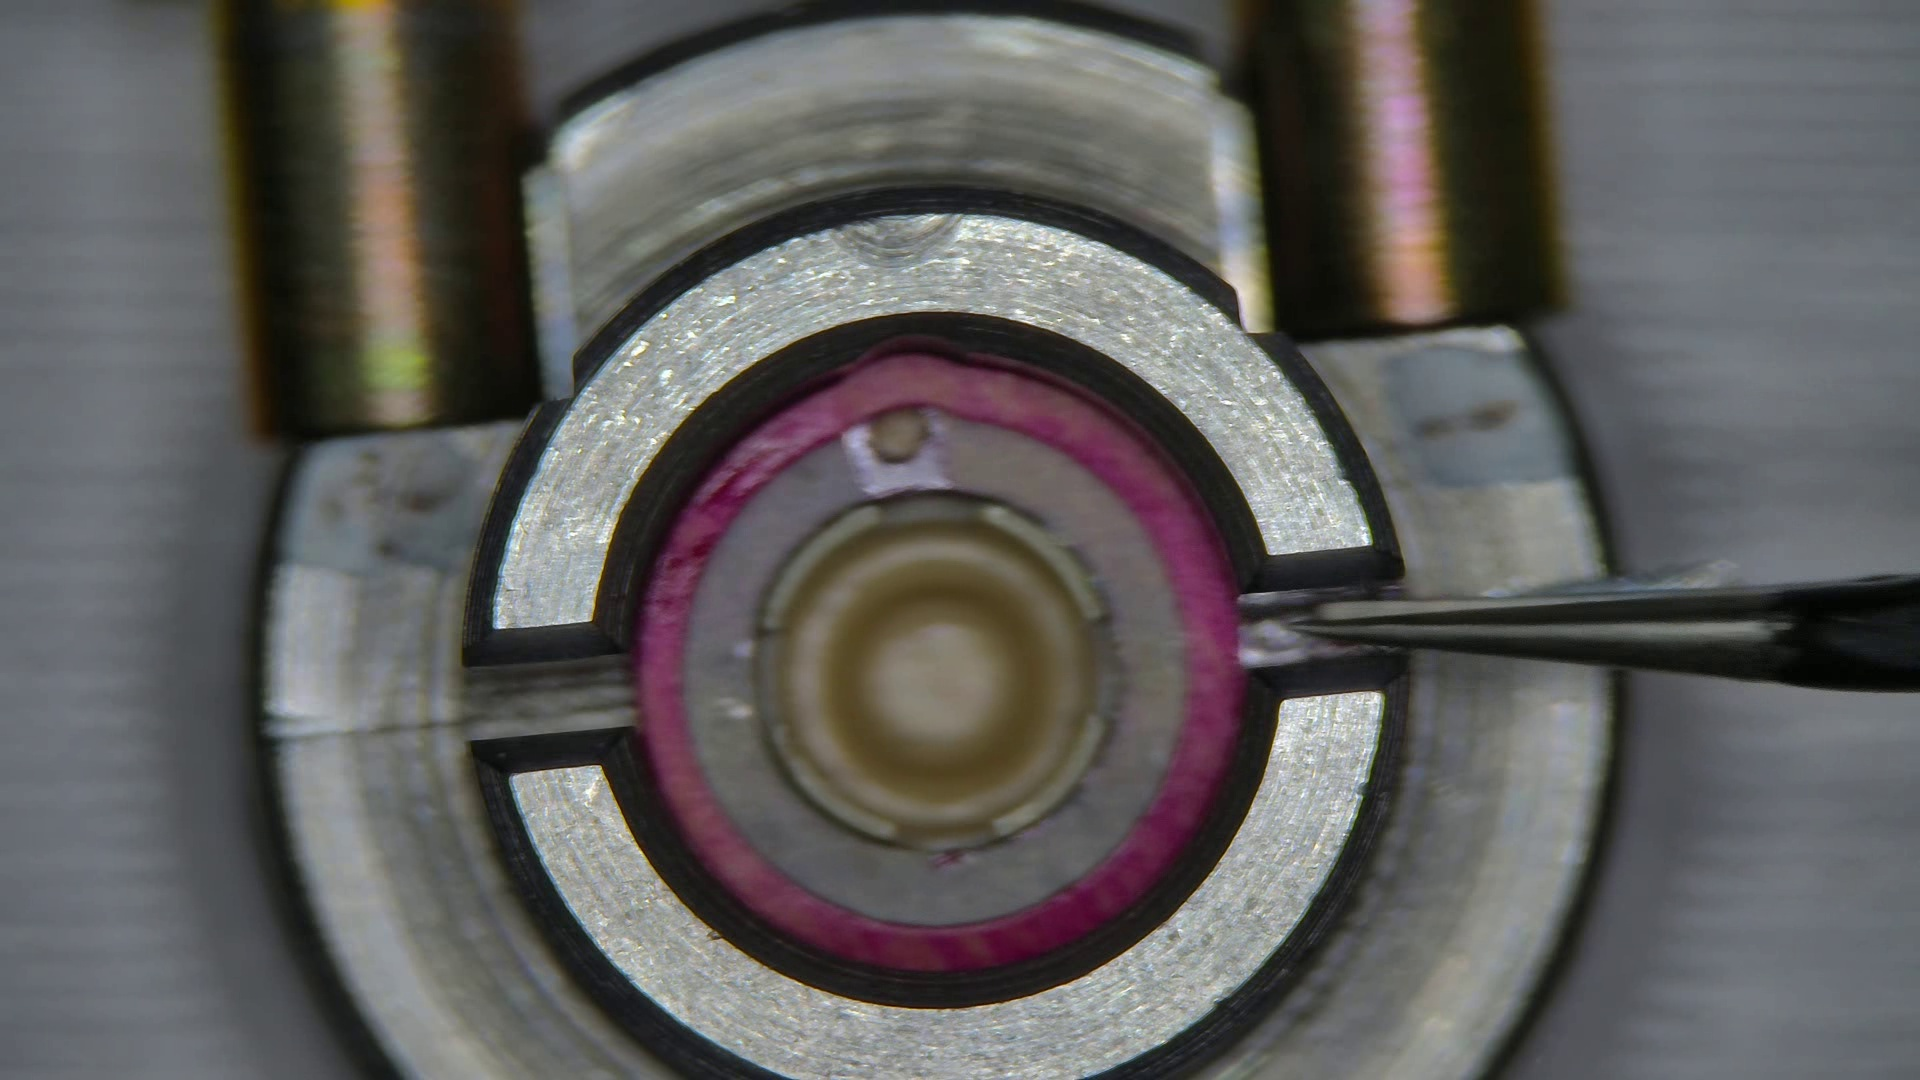GreyOring: (636, 353, 1240, 972), (1175, 692, 1176, 707)
YellowOring: (686, 409, 1185, 923)
